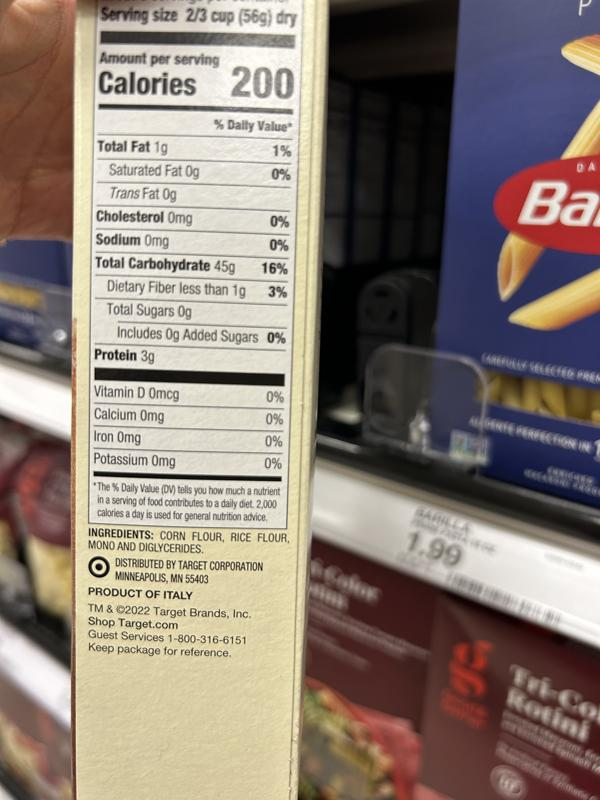ingredients: (85, 525, 292, 556)
